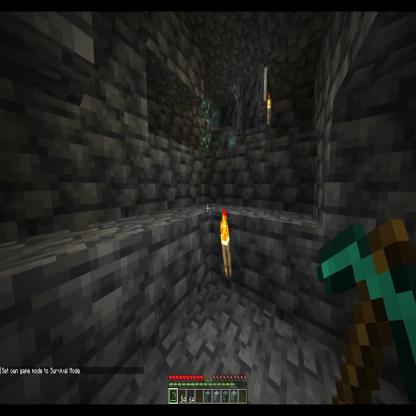diamond ore: (212, 127, 237, 152), (199, 90, 213, 127), (211, 100, 223, 128), (201, 126, 213, 154)
